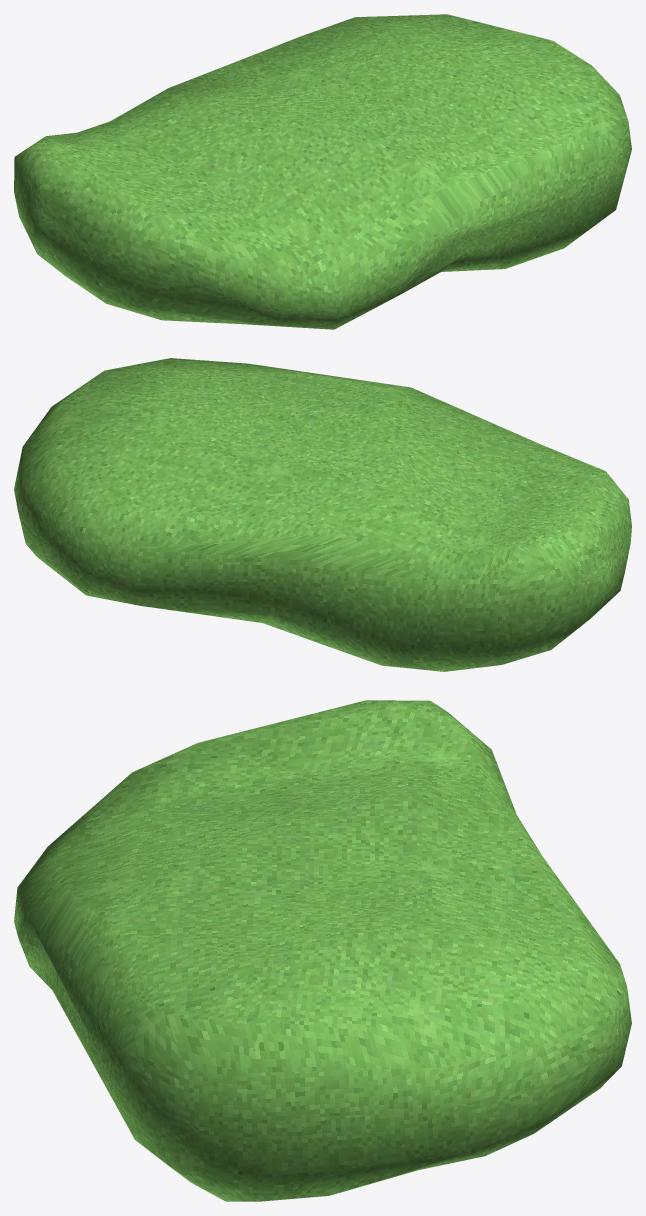
Rendered from HikeGardenBeanBLow.fbx.
The picture shows the model from 3 angles, top to bottom: view 1: azimuth 30°, elevation 25°; view 2: azimuth 150°, elevation 25°; view 3: azimuth 270°, elevation 25°; orthographic projection. The views are drawn at different scales.
Visible parts, largest first — view 1: mesh-0.001; view 2: mesh-0.001; view 3: mesh-0.001.
Boxes of the visible parts, x1,y1,x2,y2 form: mesh-0.001: [14, 14, 631, 329]; mesh-0.001: [14, 358, 631, 671]; mesh-0.001: [14, 700, 631, 1201].
Size of the model in its own units: 790007 by 235809 by 573822.
Materials: 1 (1 with a texture image).
